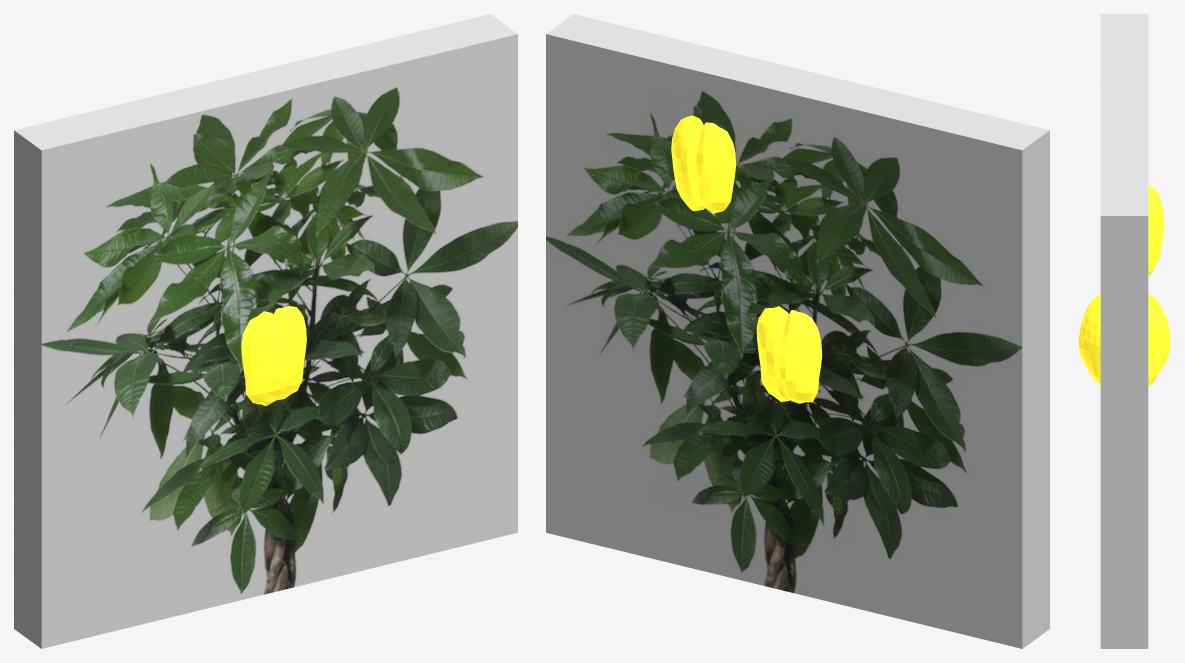
Rendered from pepper_6.dae.
3 renders of one model, left to right at view 1: azimuth 30°, elevation 25°; view 2: azimuth 150°, elevation 25°; view 3: azimuth 270°, elevation 25°, orthographic. The views are drawn at different scales.
Parts seen in each view (by area): view 1: Cube, Sphere.004; view 2: Cube, Sphere.004, Sphere.001; view 3: Cube, Sphere.004, Sphere.001.
Boxes of the visible parts, box(x1,y1,x2,y2) form: Cube: box(14, 14, 517, 648); Sphere.004: box(241, 306, 306, 405); Cube: box(546, 14, 1049, 648); Sphere.004: box(756, 306, 822, 403); Sphere.001: box(671, 115, 736, 213); Cube: box(1100, 14, 1148, 648); Sphere.004: box(1078, 293, 1170, 385); Sphere.001: box(1148, 185, 1164, 275).
Size of the model in its own units: 1 by 0.1925 by 1.
Materials: 3 (1 with a texture image).
